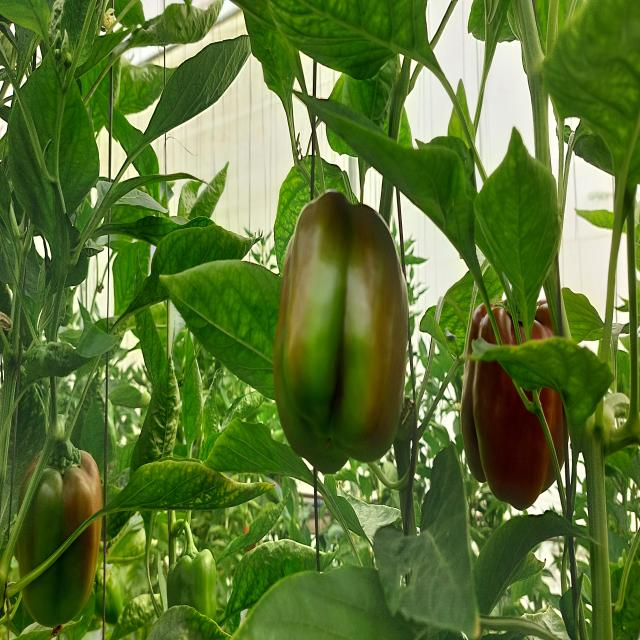BrownishRed--Can-be-Harvested: (263, 181, 414, 471), (463, 296, 579, 514), (0, 429, 123, 631)
